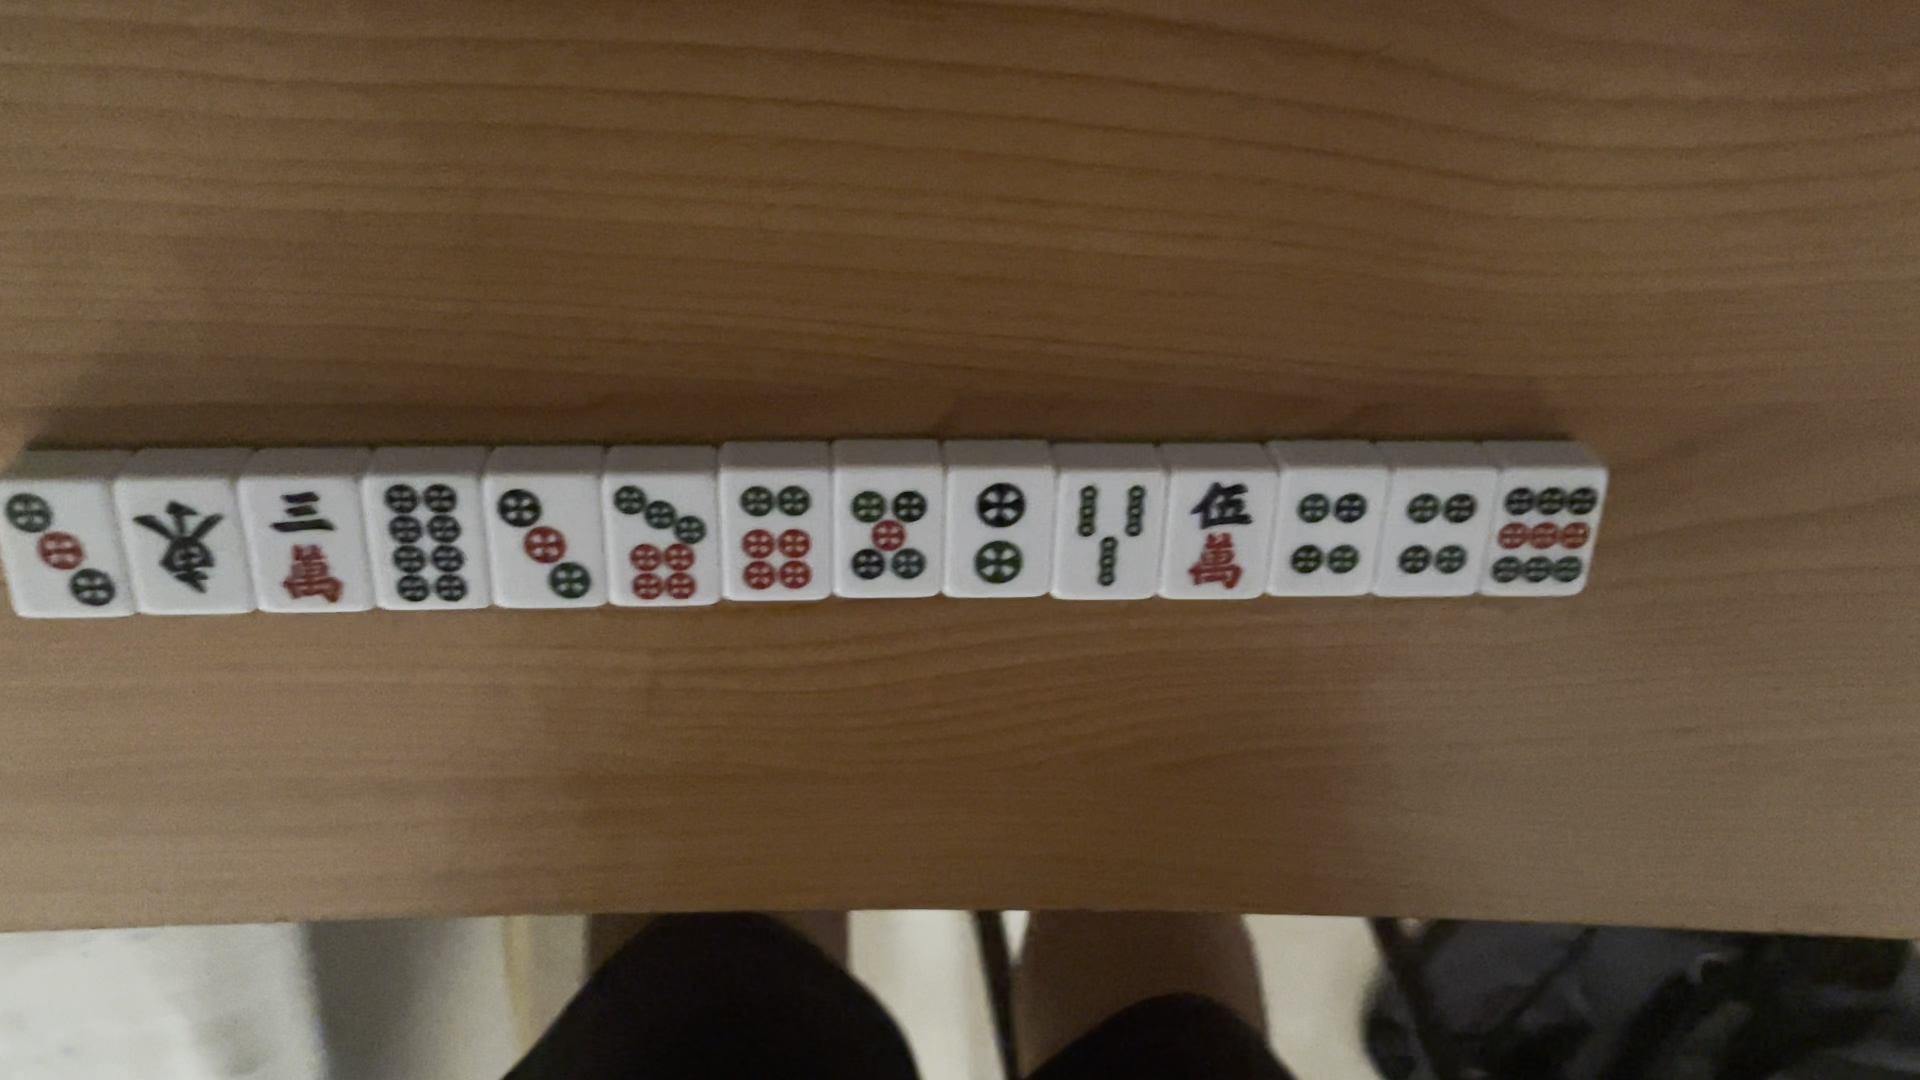b-3: (1069, 485, 1151, 596)
c-3: (262, 491, 347, 605)
c-5: (1184, 480, 1255, 593)
d-2: (971, 475, 1033, 589)
d-3: (1, 491, 119, 617), (493, 488, 591, 599)
d-4: (1393, 491, 1481, 585), (1287, 488, 1371, 585)
d-5: (848, 488, 931, 582)
d-6: (735, 477, 814, 592)
d-7: (613, 479, 709, 608)
d-8: (378, 483, 471, 603)
d-9: (1491, 477, 1607, 595)
honors-east: (127, 496, 231, 605)
